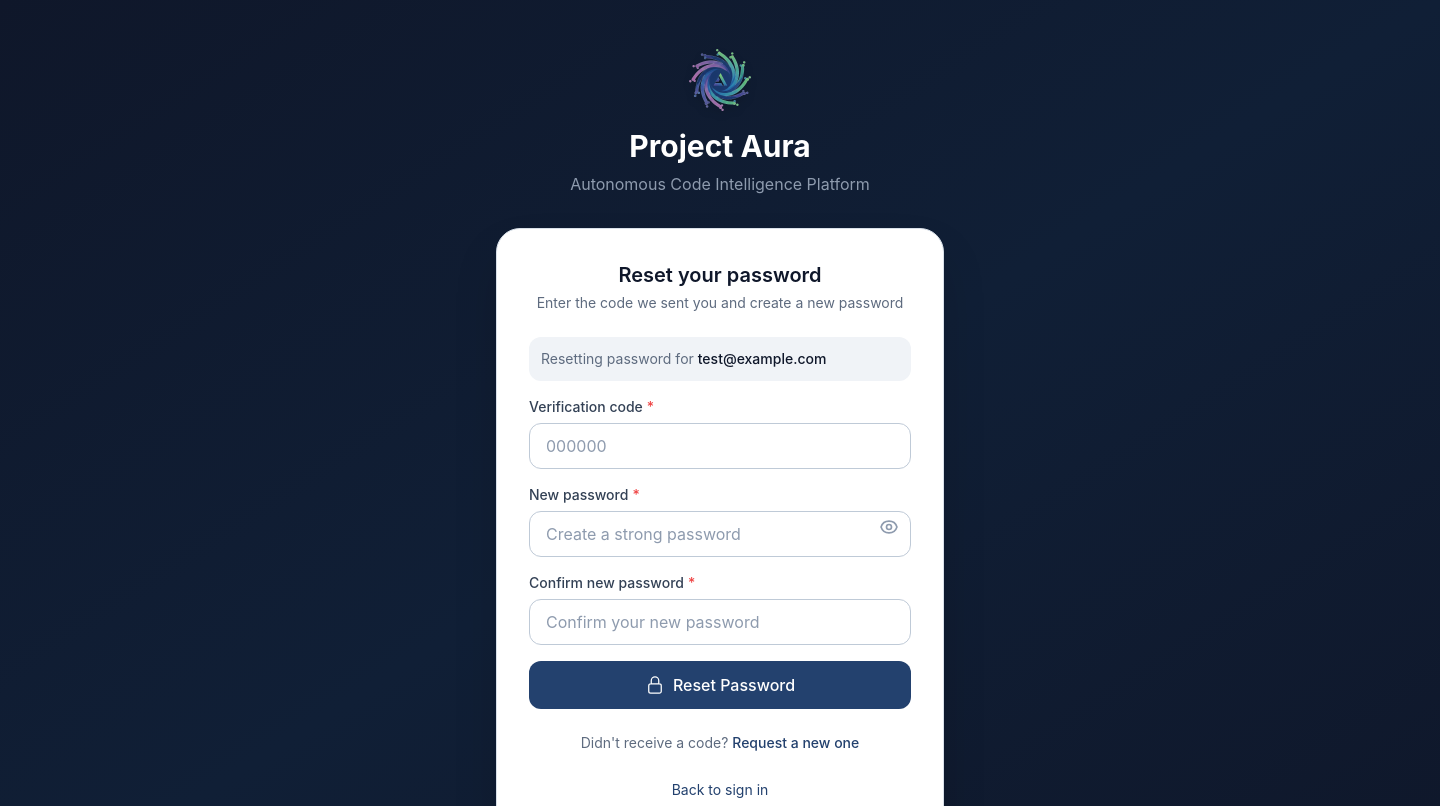
ResetPasswordPage › validates password match
The width and height of the screenshot is (1440, 806).
# Enter valid code and passwords that don't match
Type "123456" into the field labelled "Verification code*". click: [720, 446]
box: [529,423,911,469]
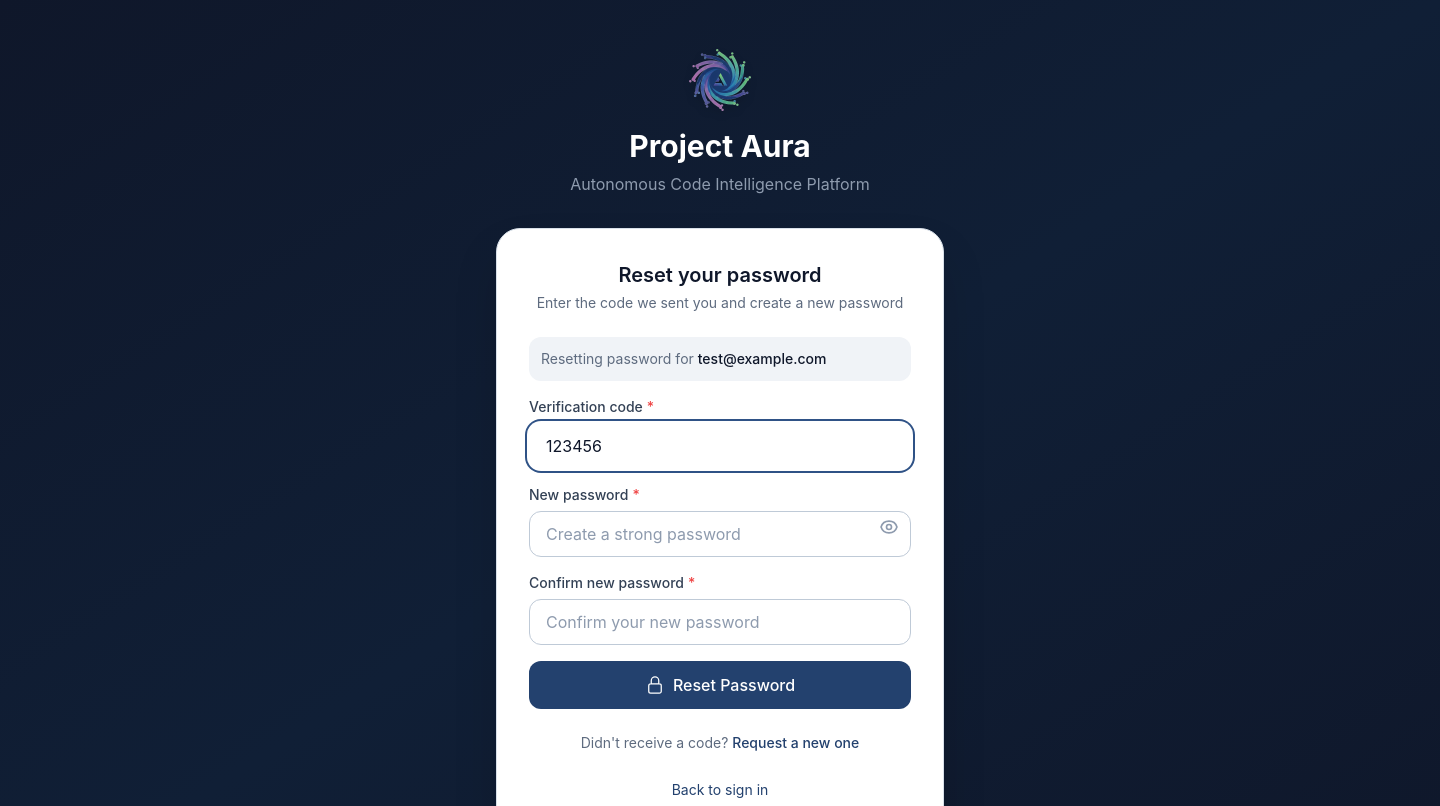
Type "Password123!" into the password field named "newPassword". click: [720, 534]
box: [529,511,911,557]
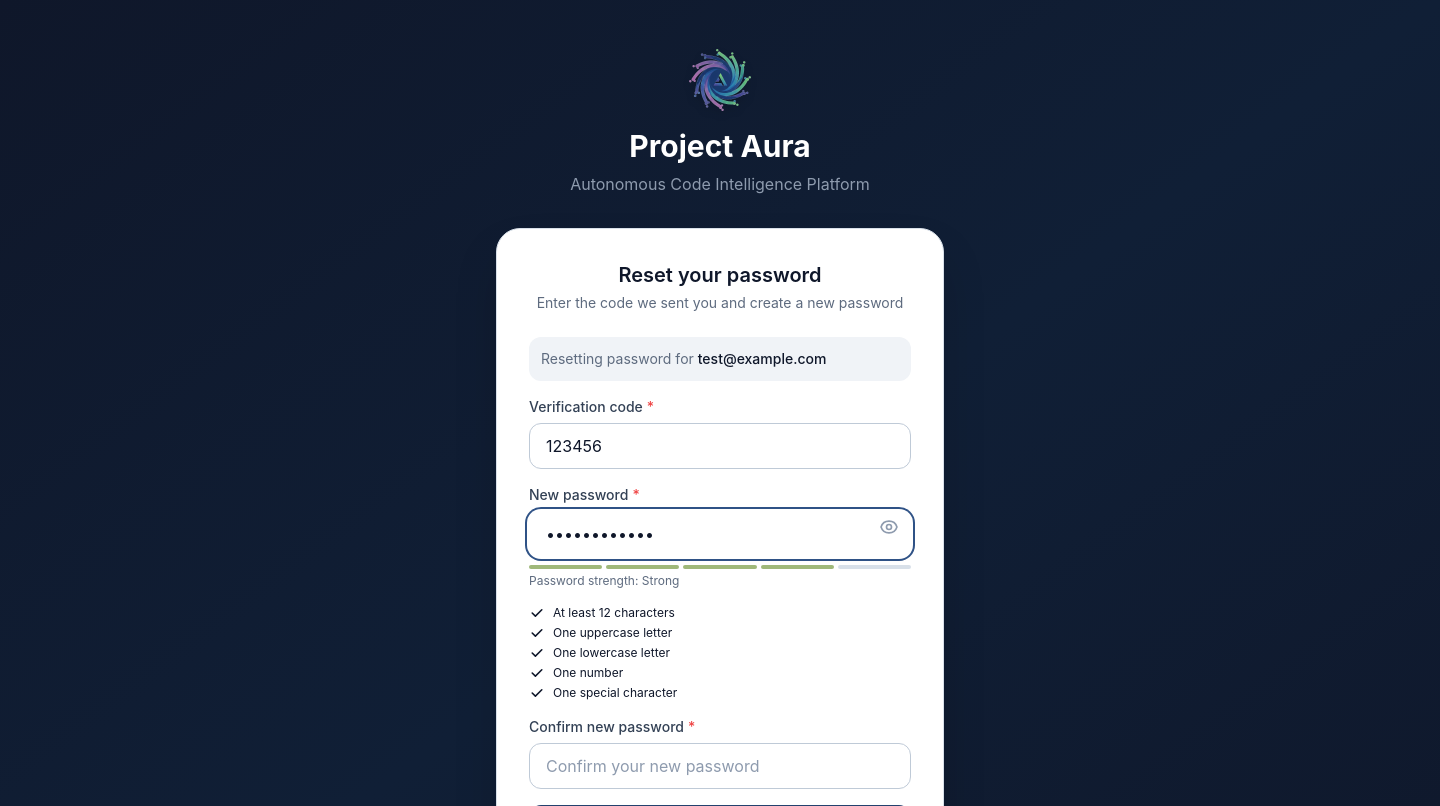
Type "DifferentPassword!" into the password field named "confirmPassword". click: [720, 766]
box: [529,743,911,789]
(page scrolled)
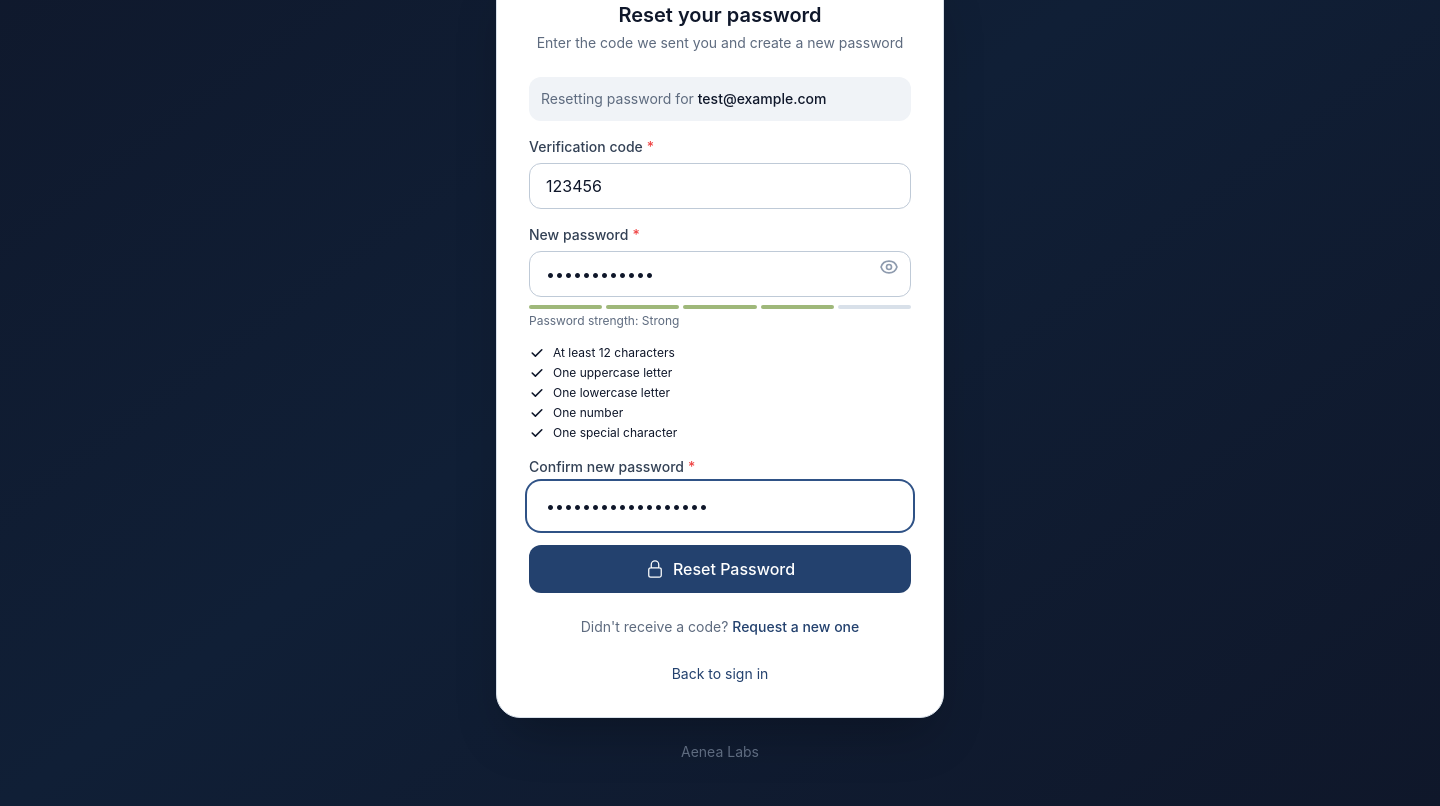
# Try to submit
Click the button "Reset Password". click: [720, 569]
box: [529,545,911,593]
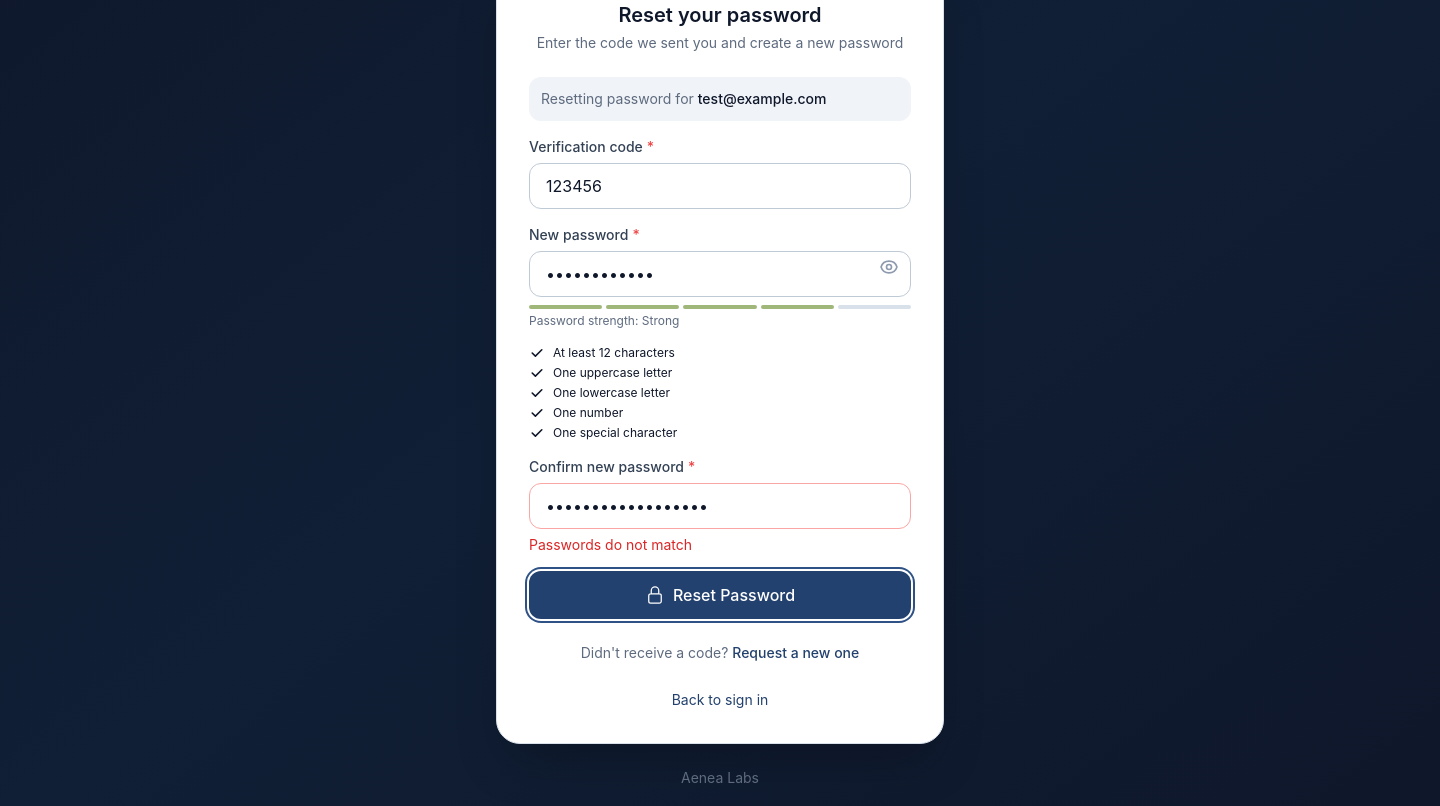
Result: the text "Passwords do not match" is shown at [529,536,692,553]
